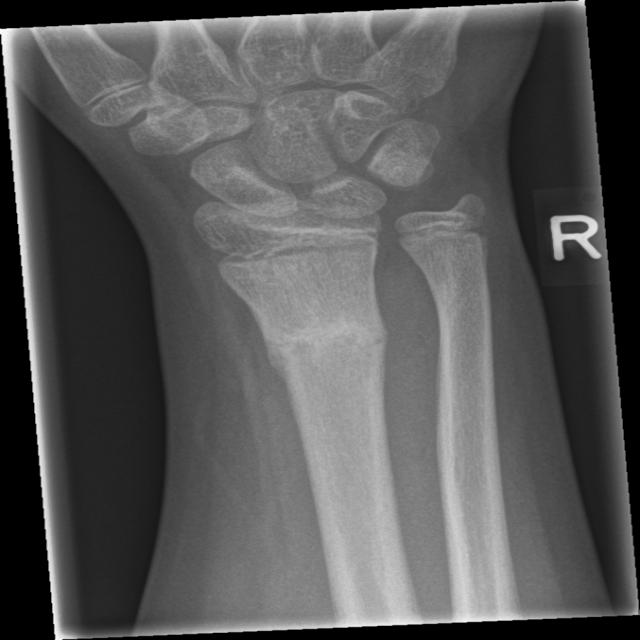radius fracture: (228, 275, 408, 465)
